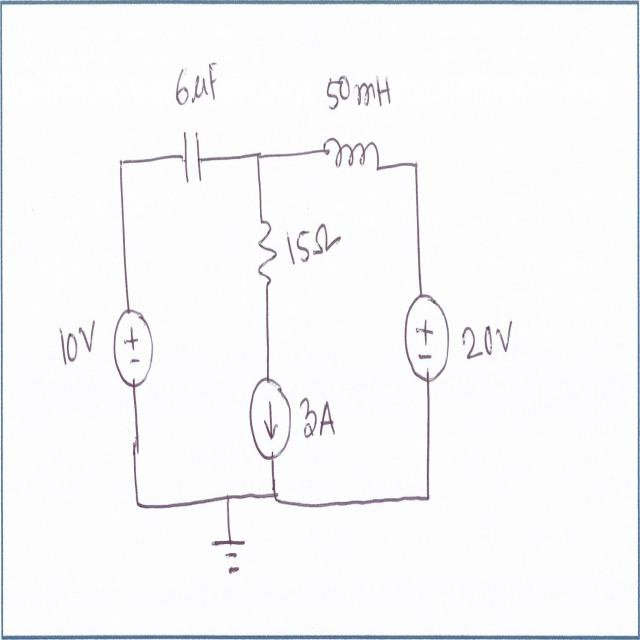capacitor: (181, 126, 205, 194)
current_source: (248, 374, 292, 462)
ground: (210, 529, 248, 584)
inductor: (322, 132, 382, 177)
resistor: (255, 218, 280, 289)
voltage_source: (403, 289, 452, 382), (111, 303, 155, 389)
